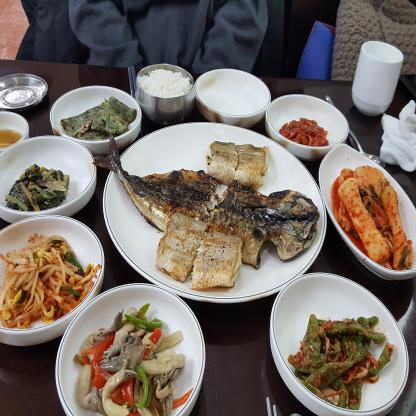Peixe: (108, 154, 333, 258)
